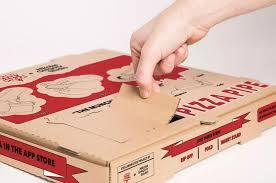Cardboard: (4, 13, 276, 183)
